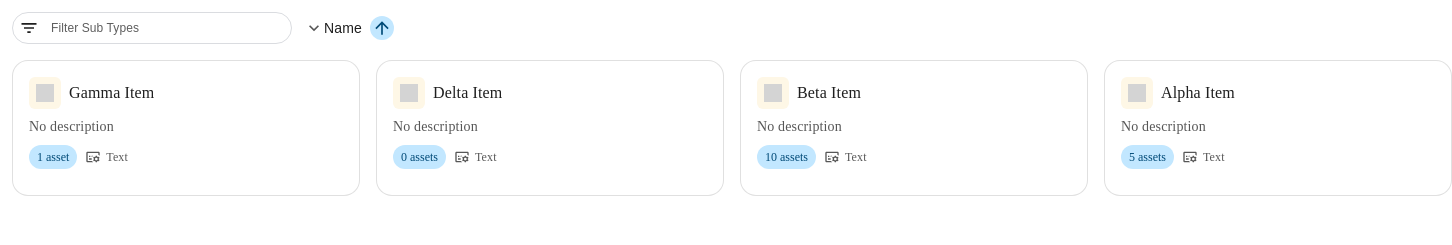
it: SubTypesTab › search functionality › should filter items when filter chip is added
// Click to open dropdown and select Name filter field
Click the field with placeholder "Filter Sub Types": (167, 28) [47,15,287,41]
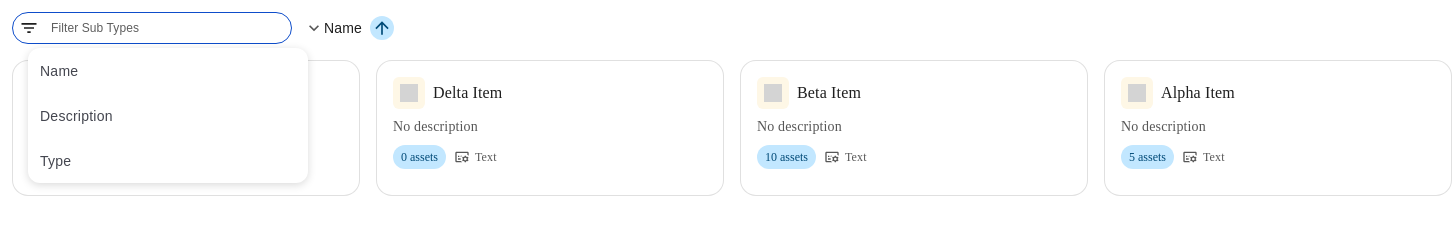
Click the menu item "Name": (59, 70) [40,62,78,78]
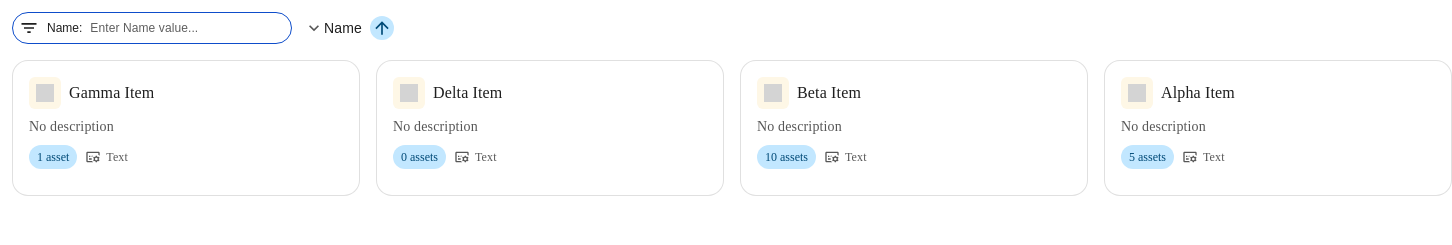
// Type filter value and press Enter
In the field with placeholder "Filter Sub Types": (187, 28) [86,15,287,41], type "Alpha"
Then press Enter
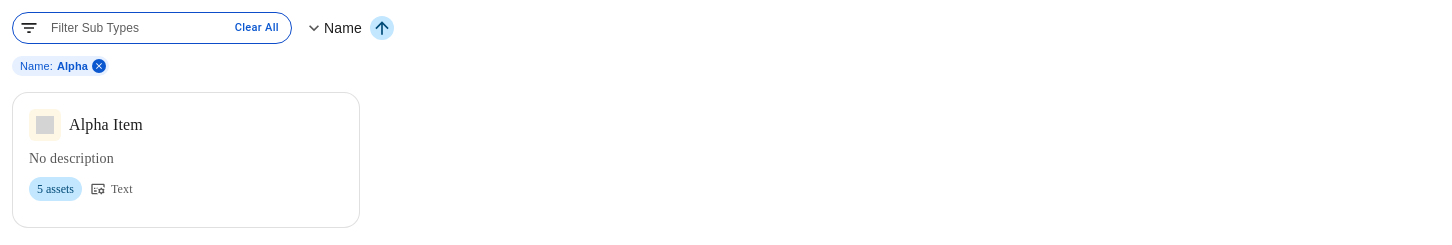
Result: the heading "Alpha Item" is shown at [69,113,143,137]
Result: the heading "Beta Item" is gone
Result: the heading "Gamma Item" is gone
